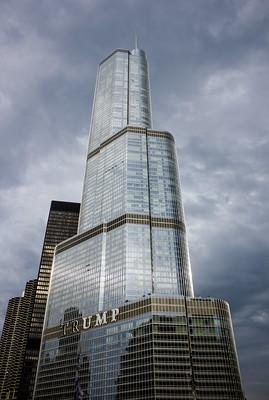building: (28, 42, 250, 400)
